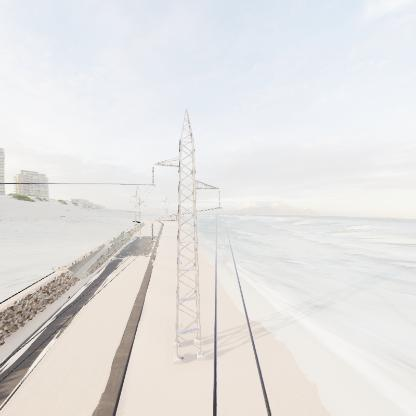tower: (149, 107, 225, 369)
